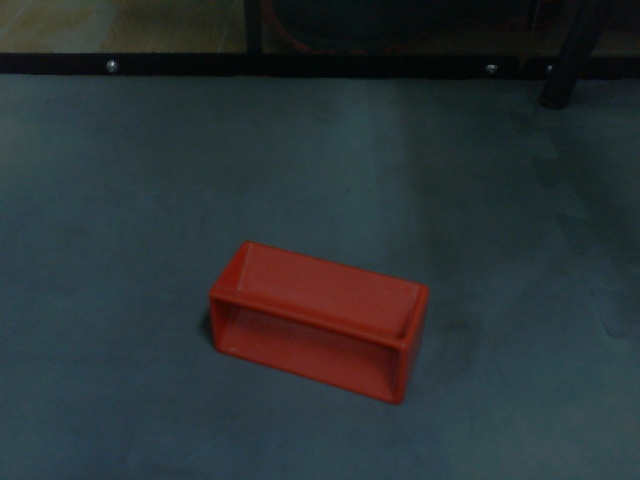RedSample: (206, 239, 433, 407)
